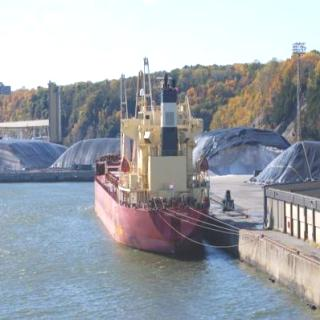Bulk Carrier: (90, 52, 218, 266)
